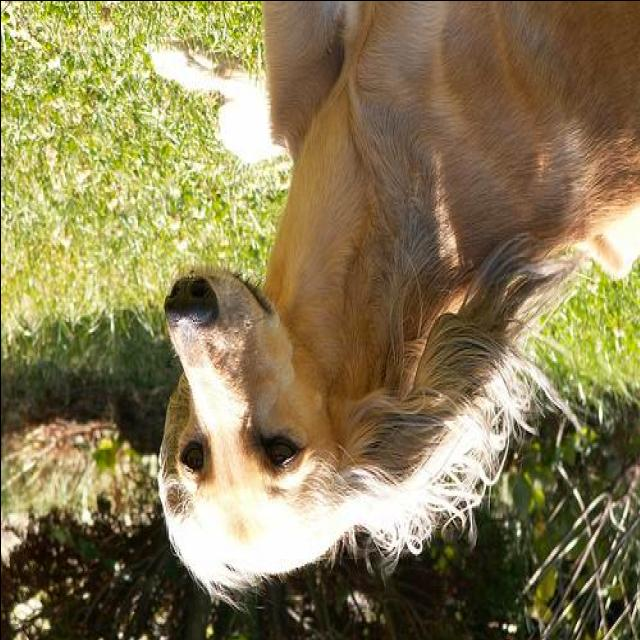saluki: (156, 2, 638, 628)
